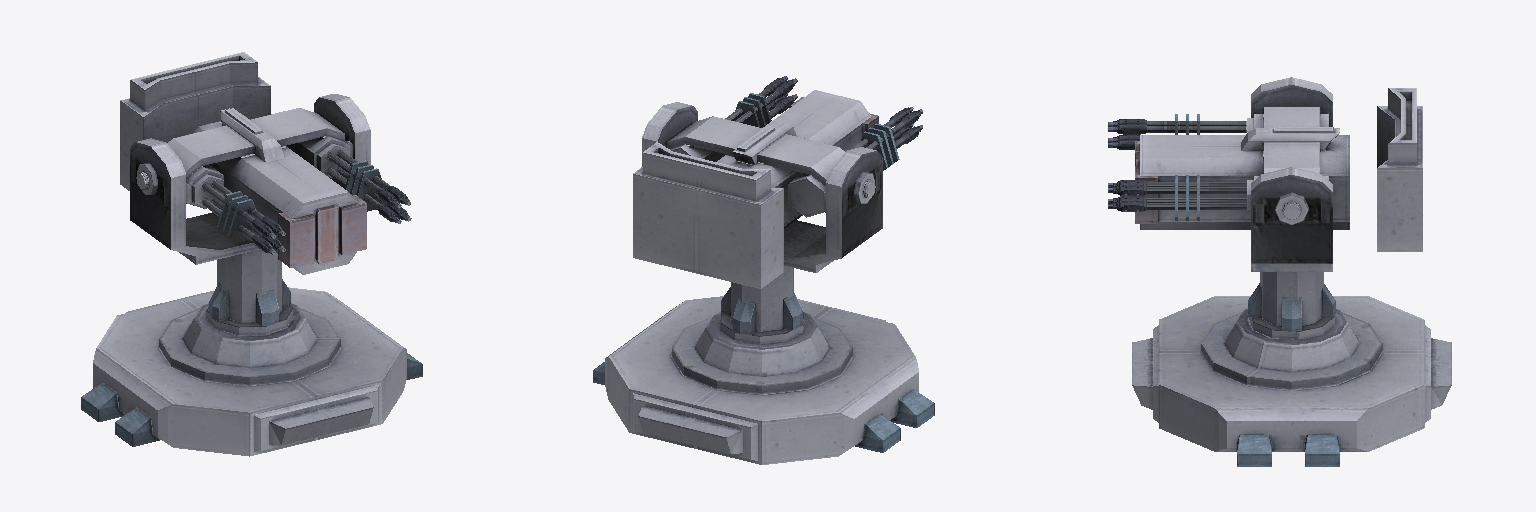
3 views of the same model, side by side, from view 1: azimuth 30°, elevation 25°; view 2: azimuth 150°, elevation 25°; view 3: azimuth 270°, elevation 25° (orthographic).
Visible parts, largest first — view 1: Torreta_01_model:Object038; view 2: Torreta_01_model:Object038; view 3: Torreta_01_model:Object038.
Part boxes in pixels (x1,y1,x2,y2): Torreta_01_model:Object038: (81,52,422,456); Torreta_01_model:Object038: (593,76,934,464); Torreta_01_model:Object038: (1108,77,1451,466).
Bounding box in the file's own units: 6.08 × 5.61 × 6.24.
Materials: 1 (1 with a texture image).